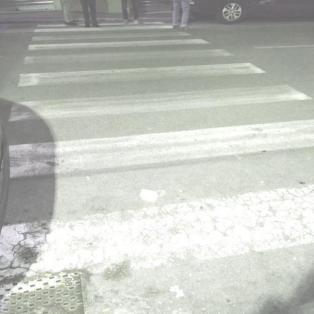Paso de Cebra: (0, 116, 313, 303), (14, 47, 268, 89)
